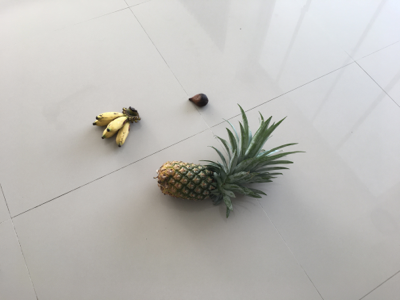banana: (92, 107, 140, 147)
pineapple: (156, 108, 303, 212)
snake fruit: (188, 93, 211, 109)
